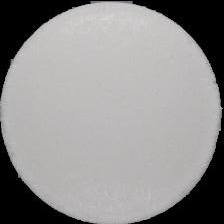68788-9138: (0, 0, 224, 224)
